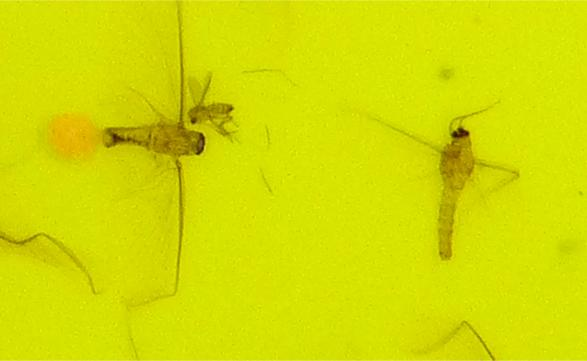Ephemeroptera: (436, 123, 487, 261), (100, 109, 207, 165)
Nematocera: (185, 100, 234, 125)
